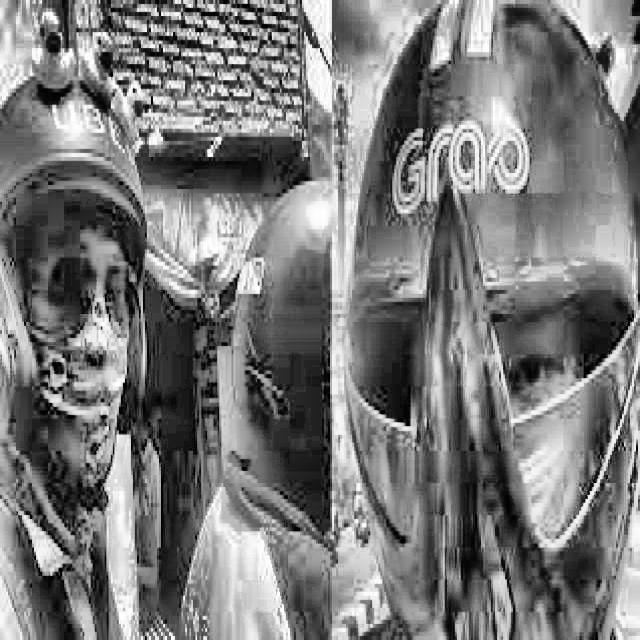Helmet: (347, 0, 640, 640), (0, 53, 148, 501)
